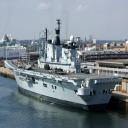Portanaves: (4, 16, 124, 113)
